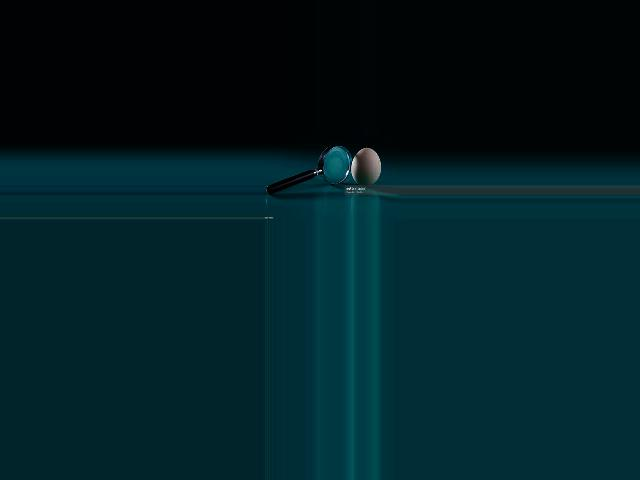egg: (351, 147, 381, 186)
